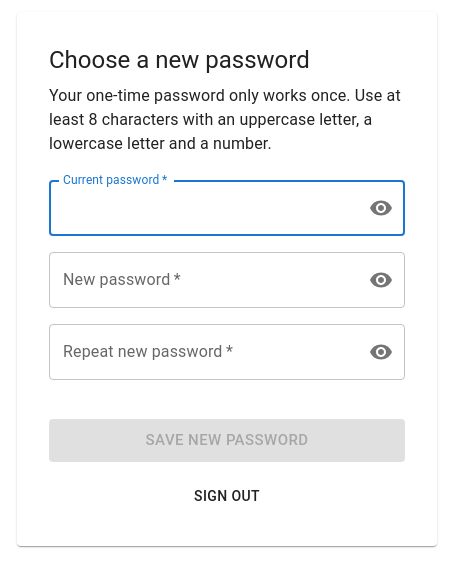
ChangePasswordPage › says so when the repeated password does not match, and clears the message when it does
Type "Brand-New-9" into the password field labelled "New password *" at (200, 280), box [49, 252, 351, 308]
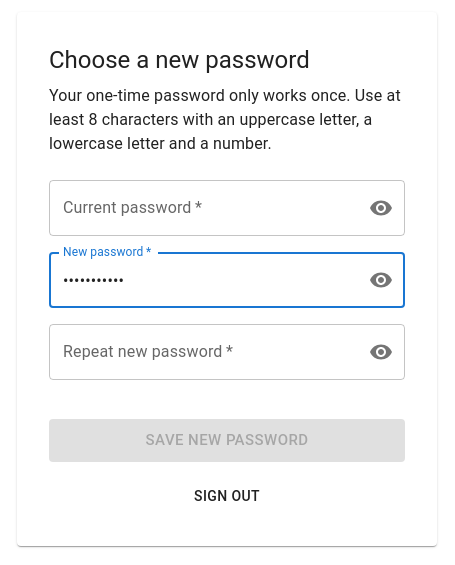
Check: the text "The two passwords do not match" is not shown
Type "Brand-New-8" into the password field labelled "Repeat new password *" at (200, 352), box [49, 324, 351, 380]
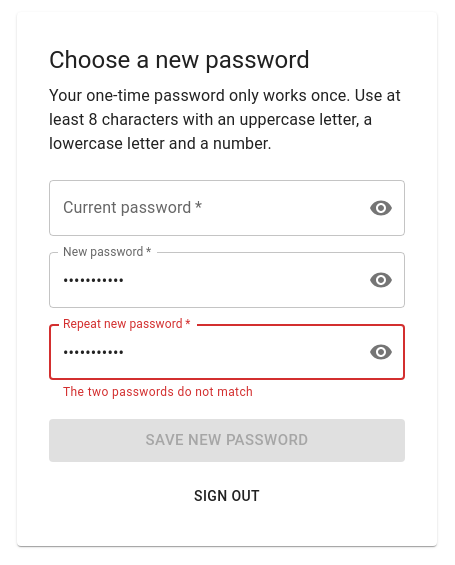
Check: the text "The two passwords do not match" is shown, box [63, 385, 253, 399]
Type "x" into the password field labelled "Current password *" at (200, 208), box [49, 180, 351, 236]
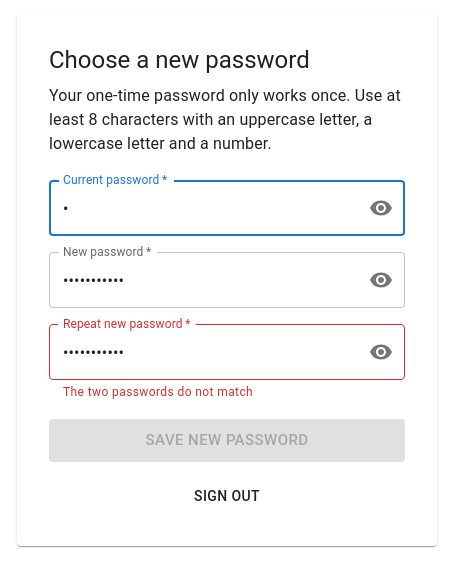
Check: the button "Save new password" is disabled, box [49, 419, 405, 462]
Type "Brand-New-9" into the password field labelled "Repeat new password *" at (200, 352), box [49, 324, 351, 380]
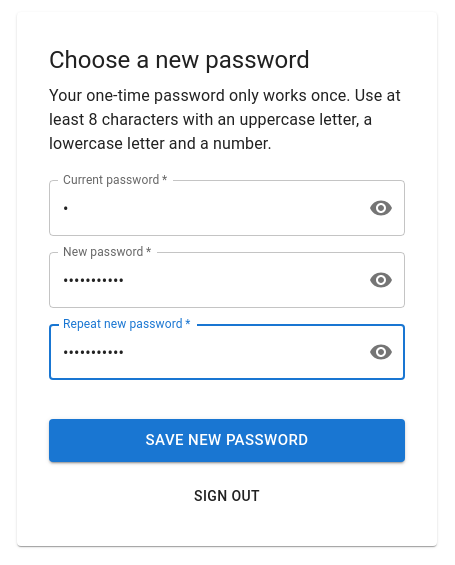
Check: the text "The two passwords do not match" is not shown
Check: the button "Save new password" is enabled, box [49, 419, 405, 462]
